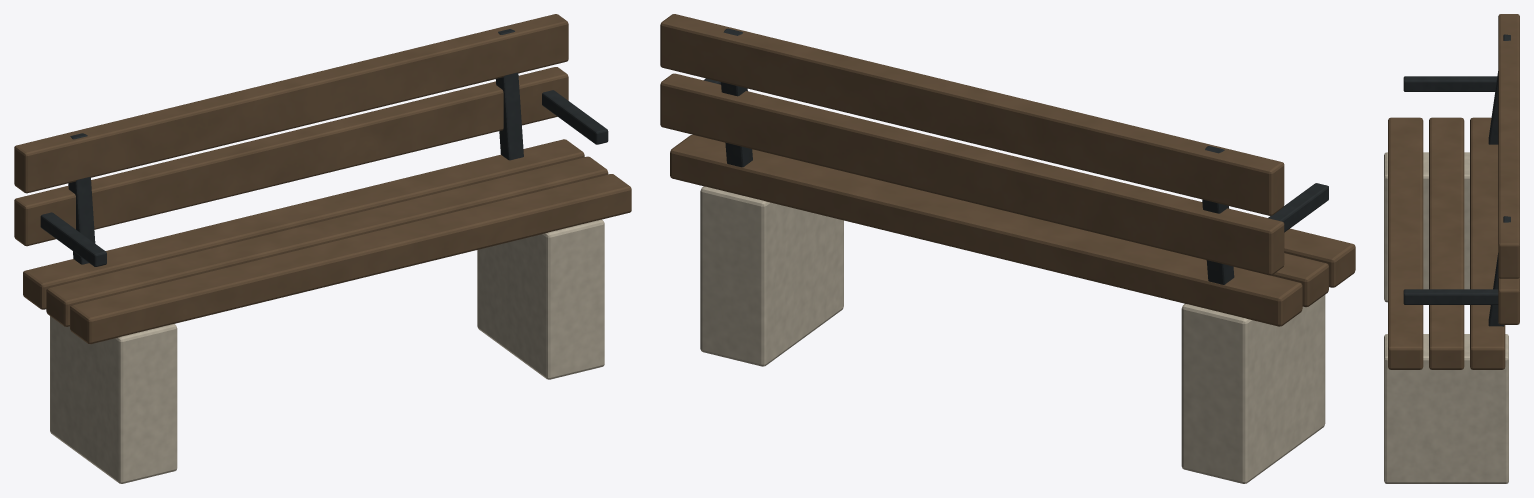
The model's file is Bench.fbx.
3 views of the same model, side by side, from view 1: azimuth 30°, elevation 25°; view 2: azimuth 150°, elevation 25°; view 3: azimuth 270°, elevation 25° (orthographic). The views are drawn at different scales.
Visible parts, largest first — view 1: Bench.001; view 2: Bench.001; view 3: Bench.001.
Part boxes in pixels (x1=…): Bench.001: x1=14, y1=14, x2=631, y2=483; Bench.001: x1=660, y1=14, x2=1355, y2=483; Bench.001: x1=1384, y1=14, x2=1519, y2=483.
Bounding box in the file's own units: 2.8 × 1.43 × 0.695.
